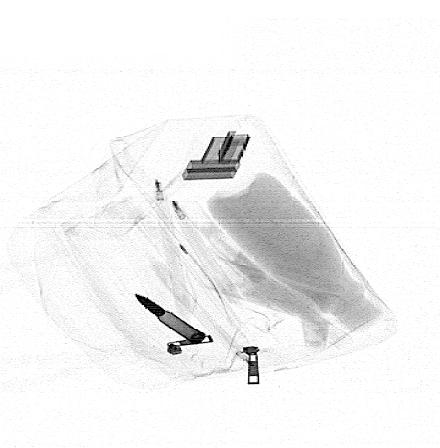Bullet: (133, 293, 206, 345)
